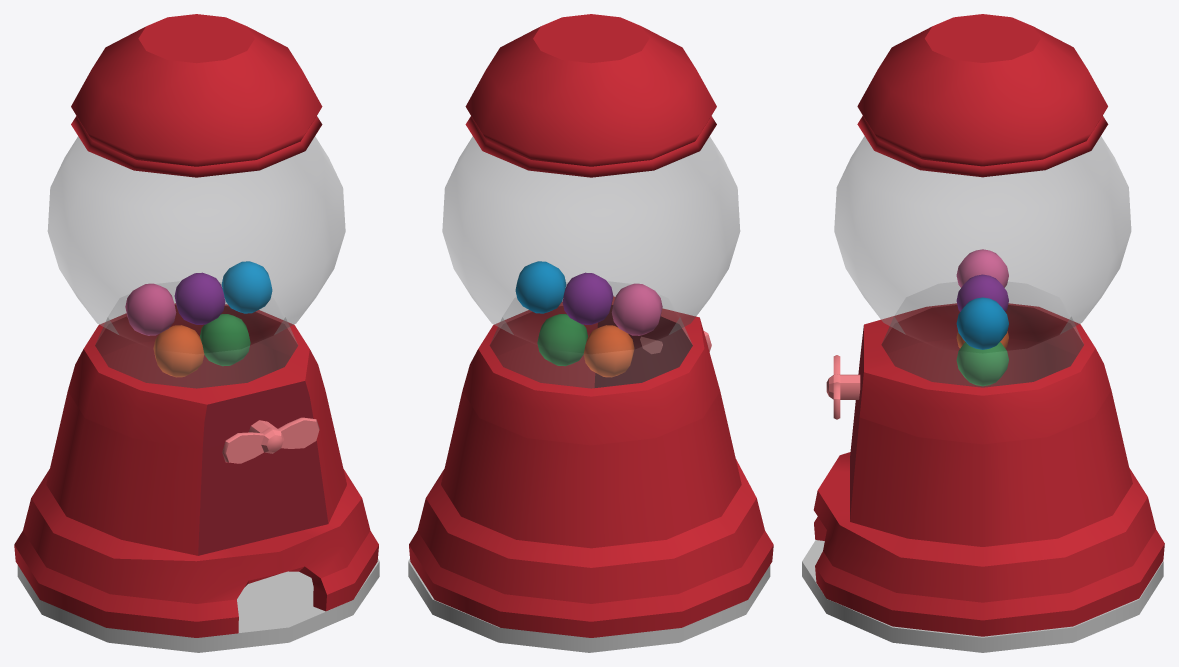
Rendered from GumballMachine.fbx.
3 views of the same model, side by side, from view 1: azimuth 30°, elevation 25°; view 2: azimuth 150°, elevation 25°; view 3: azimuth 270°, elevation 25° (orthographic).
Parts seen in each view (by area): view 1: BaseTop, Glass, BottomCover, Handle, GumballPink, GumballOrange, GumballBlue, GumballPurple, GumballGreen; view 2: BaseTop, Glass, BottomCover, GumballPink, GumballOrange, GumballBlue, GumballPurple, GumballGreen; view 3: BaseTop, Glass, BottomCover, GumballBlue, GumballGreen, GumballPink, GumballPurple, Handle.
Boxes of the visible parts, <box> form: BaseTop: <box>14,14,378,637</box>; Glass: <box>47,136,345,388</box>; BottomCover: <box>17,559,379,652</box>; Handle: <box>222,417,319,463</box>; GumballPink: <box>125,283,176,335</box>; GumballOrange: <box>153,325,204,377</box>; GumballBlue: <box>221,261,272,313</box>; GumballPurple: <box>174,272,225,324</box>; GumballGreen: <box>200,314,250,366</box>; BaseTop: <box>409,14,773,637</box>; Glass: <box>442,136,740,388</box>; BottomCover: <box>408,559,770,652</box>; GumballPink: <box>611,283,662,335</box>; GumballOrange: <box>583,325,634,377</box>; GumballBlue: <box>515,261,566,313</box>; GumballPurple: <box>562,272,613,324</box>; GumballGreen: <box>537,314,587,366</box>; BaseTop: <box>813,14,1164,636</box>; Glass: <box>834,136,1131,387</box>; BottomCover: <box>802,540,1163,652</box>; GumballBlue: <box>956,297,1008,349</box>; GumballGreen: <box>956,342,1008,386</box>; GumballPink: <box>956,249,1008,287</box>; GumballPurple: <box>956,274,1008,311</box>; Handle: <box>826,355,860,419</box>.
Size of the model in its own units: 2.77 by 4.5 by 2.76.
